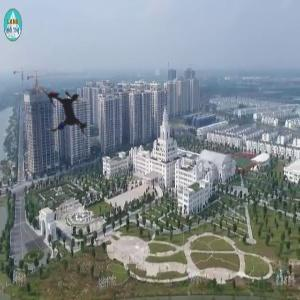drone: (13, 59, 120, 166)
